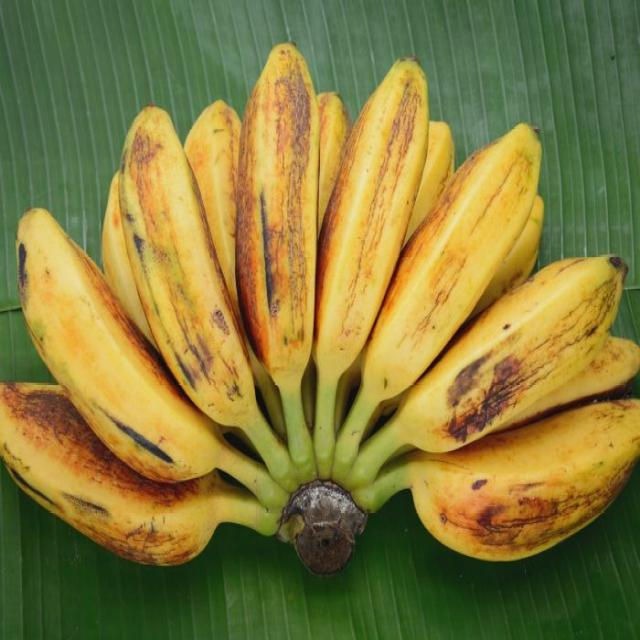banana: (0, 37, 640, 581)
